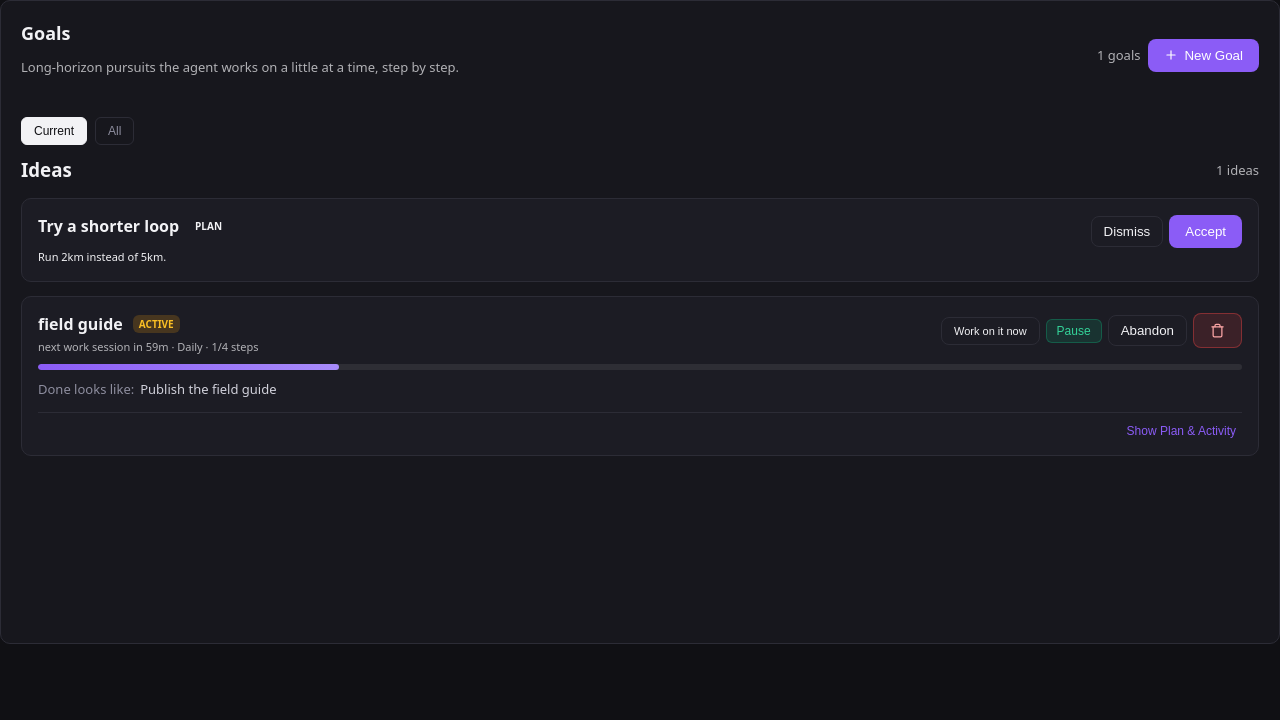
Scenario: GoalsManager › surfaces the honest conflict message when accept is refused
Expected: the text "Try a shorter loop" is shown, top-left (38, 215), bottom-right (179, 237)
Step 1. Click the button with aria-label "Accept Try a shorter loop" → (1206, 232), box top-left (1169, 215), bottom-right (1242, 248)
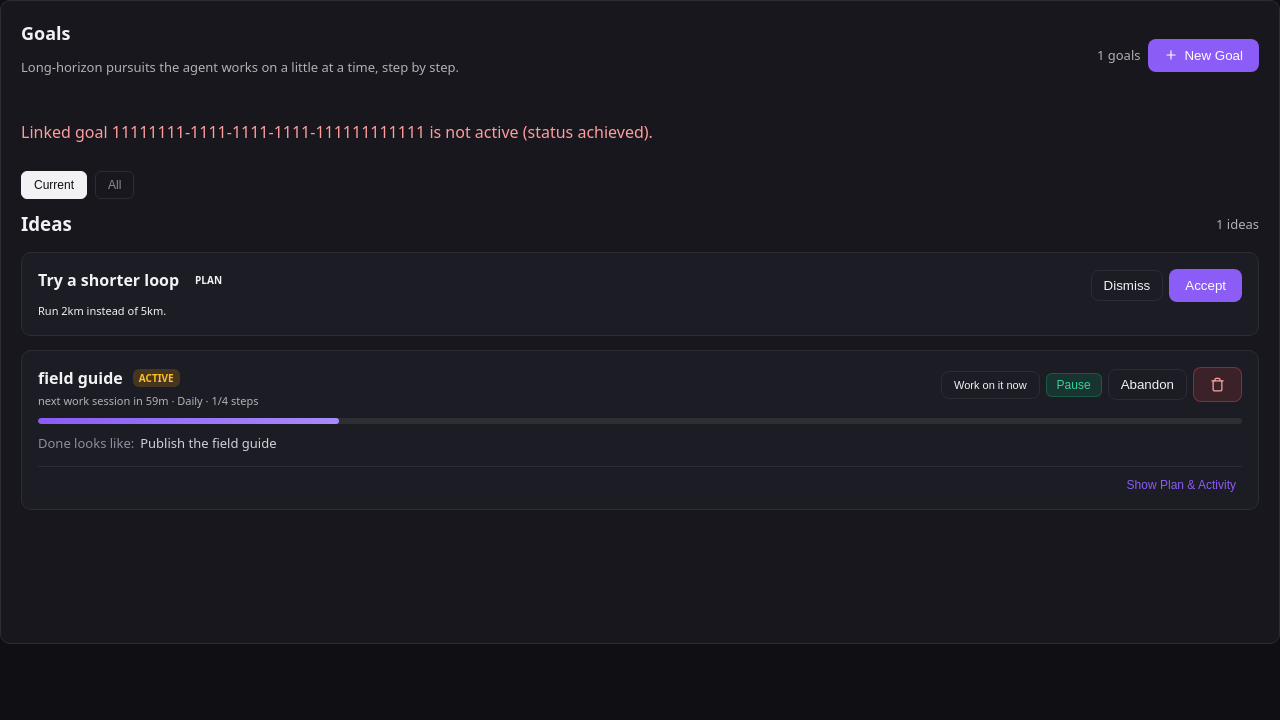
Now the text "is not active" is shown, box top-left (21, 121), bottom-right (653, 143)
